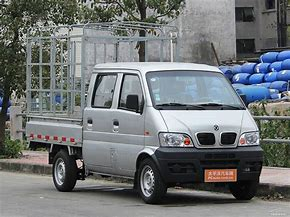smalltruck: (18, 16, 264, 205)
